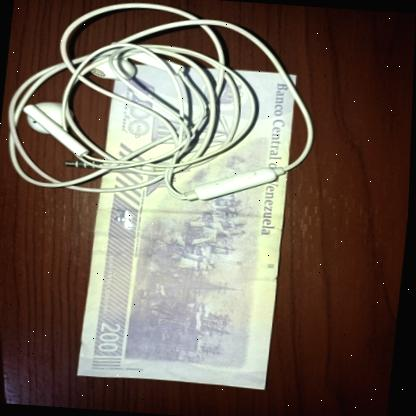two_hundred-back-vef: (78, 60, 302, 390)
